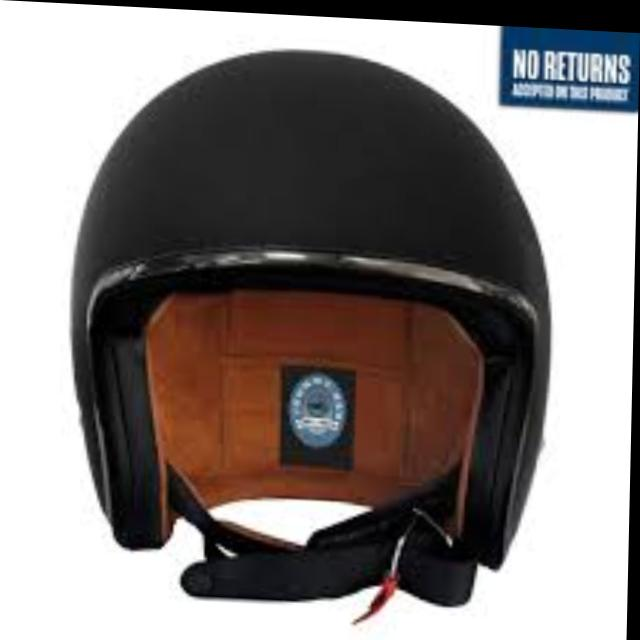motorcycle-helmets: (77, 51, 548, 604)
